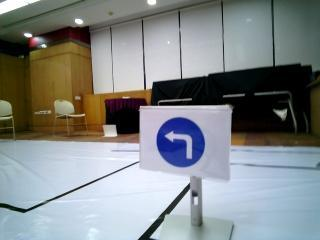left: (145, 113, 219, 171)
